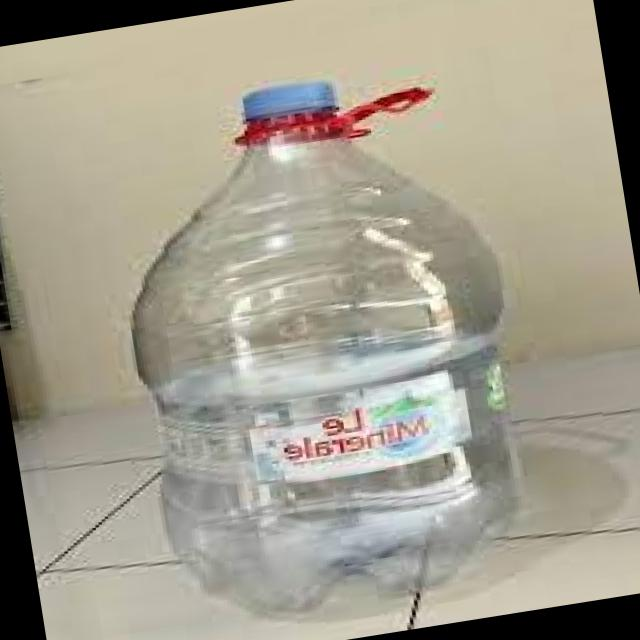Galon: (93, 50, 554, 636)
